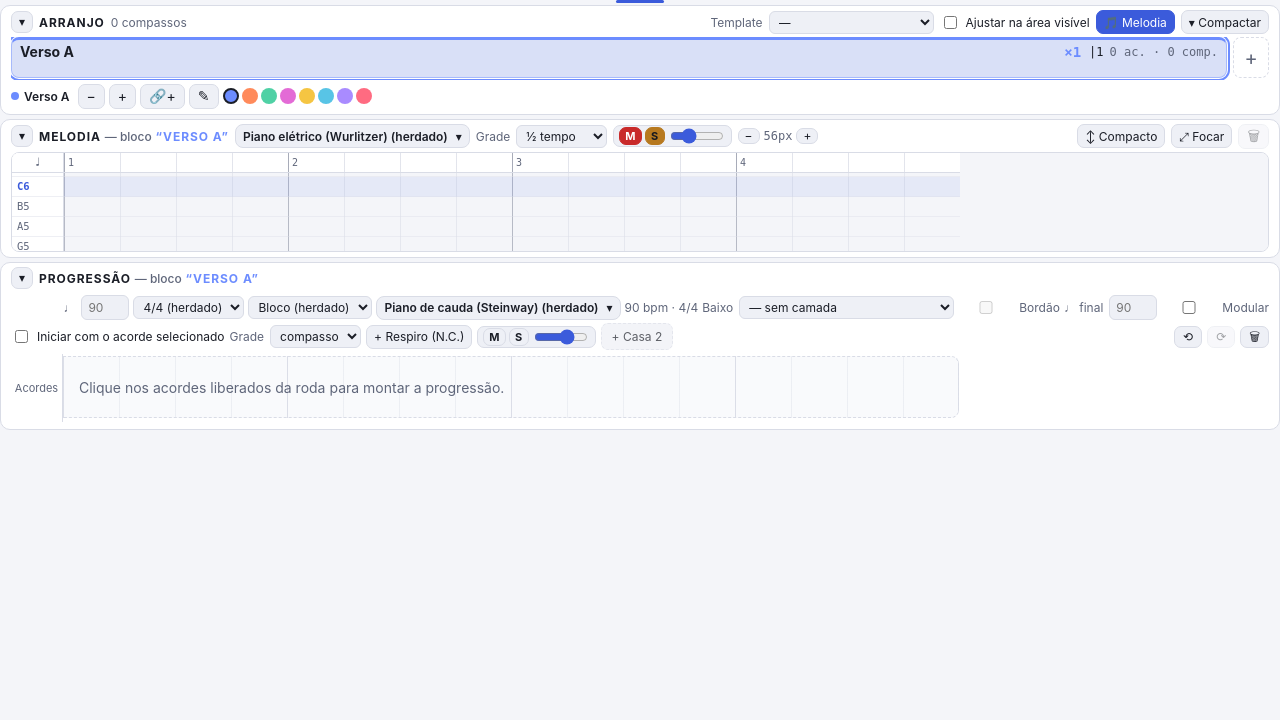
Test: Painéis recolhíveis, modo compacto da melodia e popover em portal › InstrumentPicker de Melodia e Progressão abre via portal em document.body com prioridade máxima e fecha com Esc
(page scrolled)
Note: Seletor da Melodia
Click the button "Piano elétrico (Wurlitzer) (herdado) ▾" at (352, 136), box [235,124,470,148]
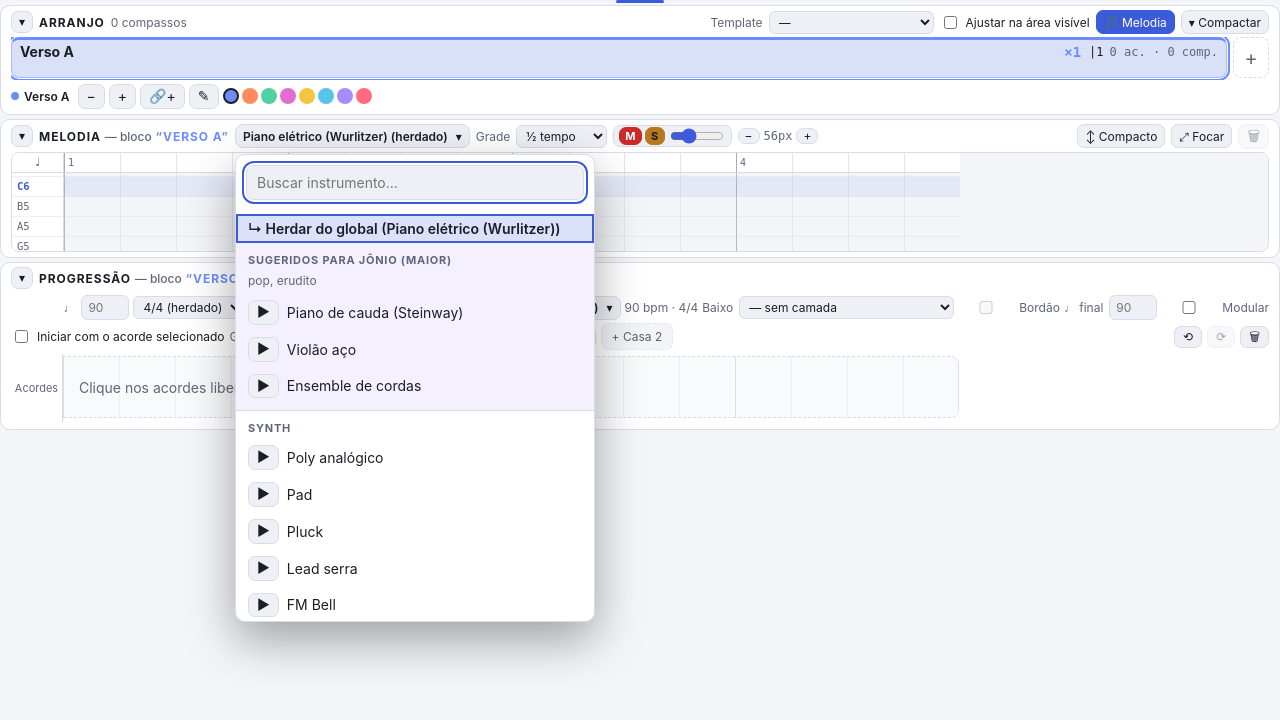
Result: the element with class "inst-popover-portal" is shown at [235,154,595,622]
Press Escape in the dropdown with placeholder "Buscar instrumento…", box [246,165,584,200]
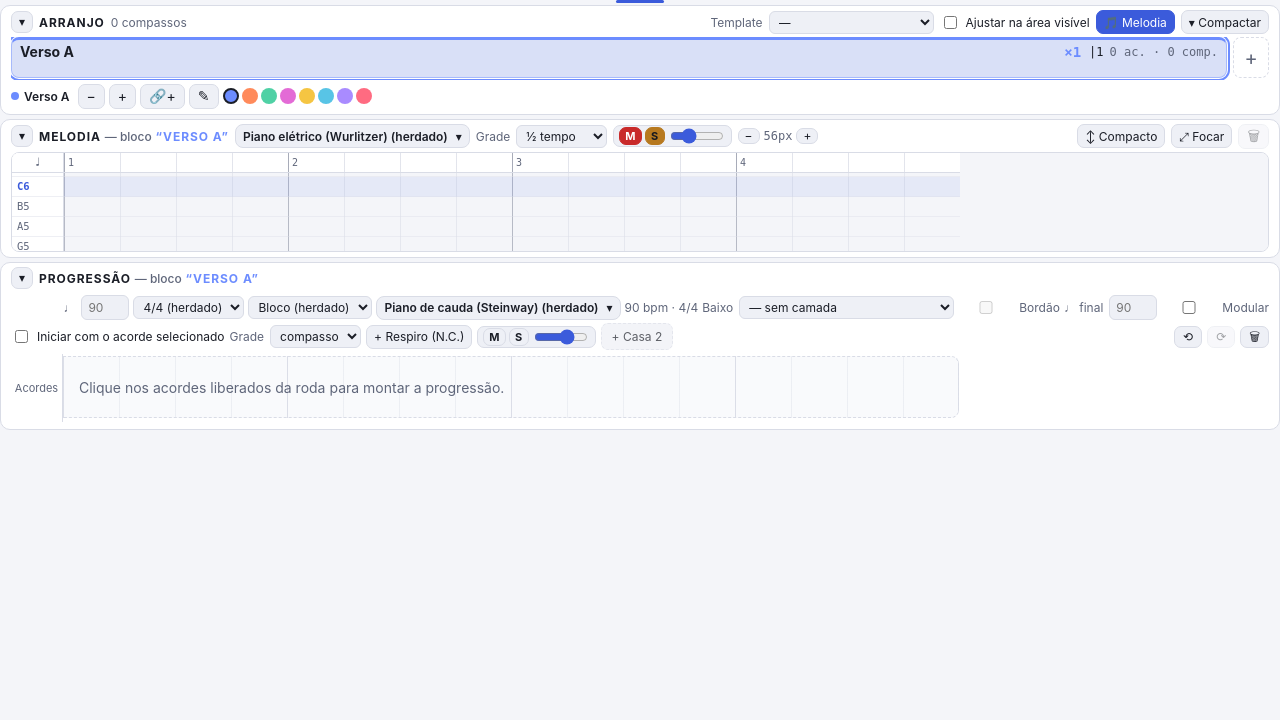
Result: the element with class "inst-popover-portal" is gone
Note: Seletor da Progressão
Click the button "Piano de cauda (Steinway) (herdado) ▾" at (498, 308), box [376,296,621,320]
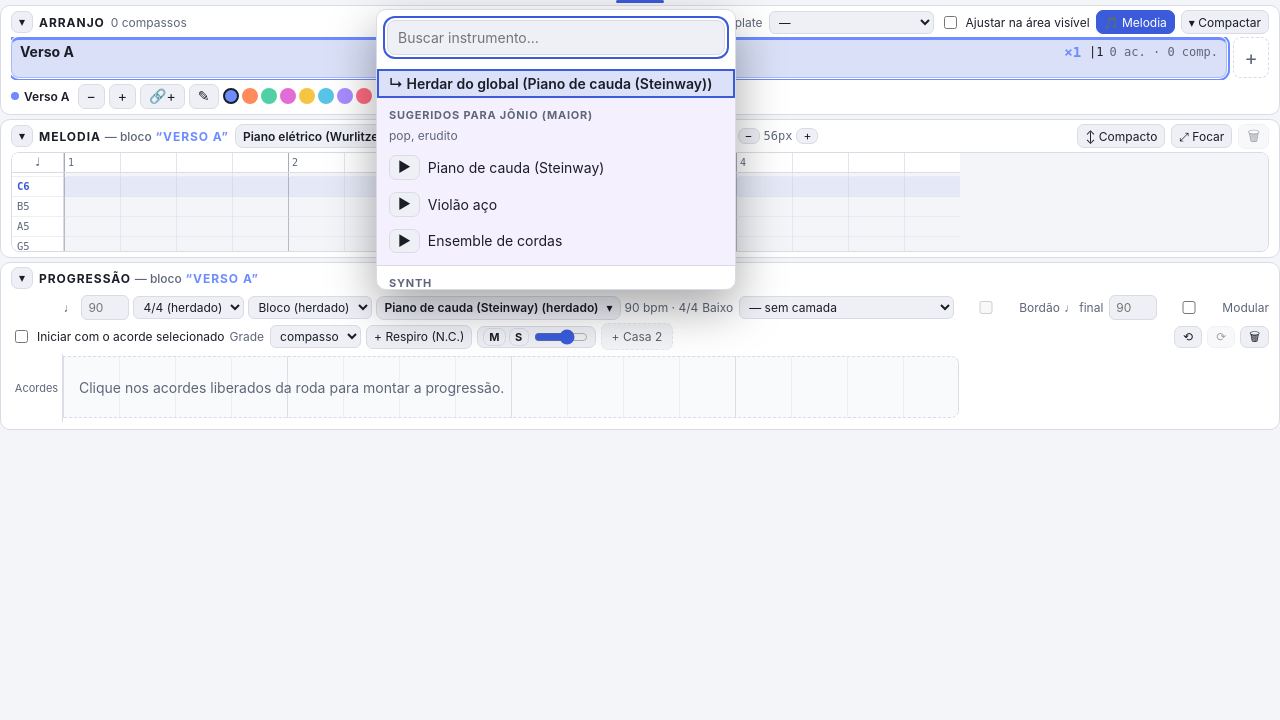
Result: the element with class "inst-popover-portal" is shown at [376,9,736,290]
Note: Fechar ao clicar fora
Press the mouse on the element that starts with "Arranjo" at (640, 360), box [0,0,1279,719]
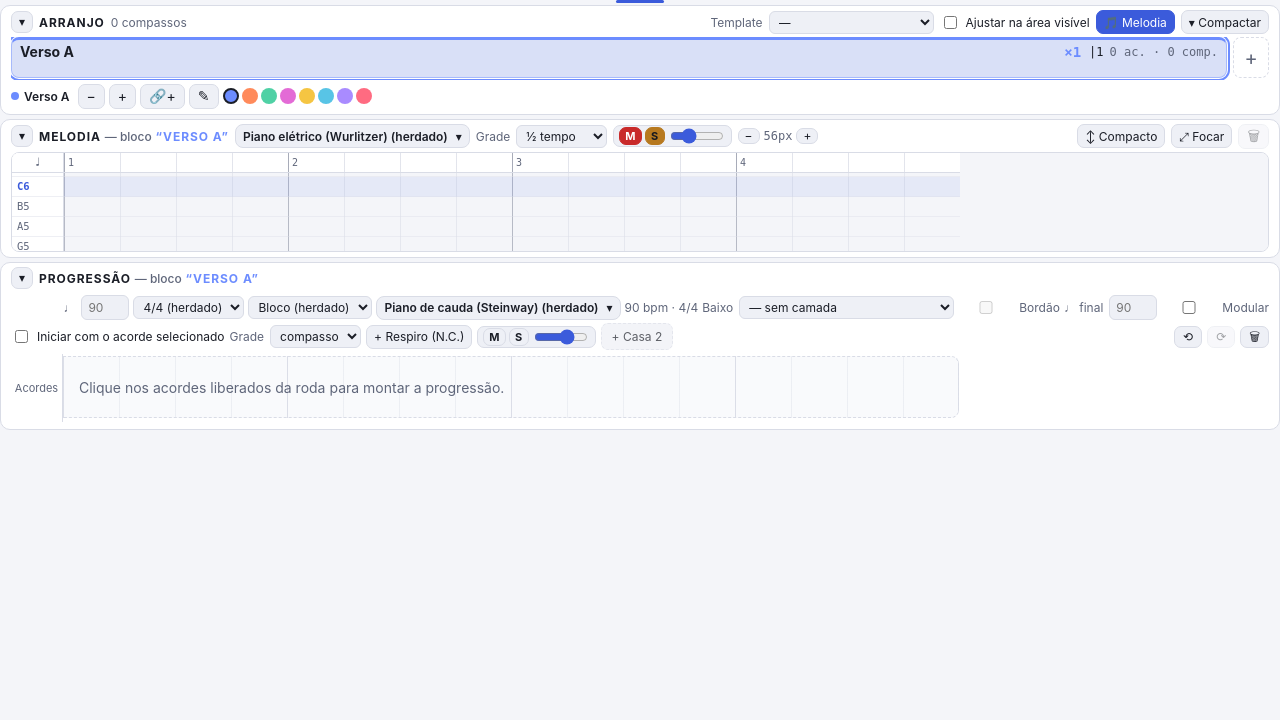
Result: the element with class "inst-popover-portal" is gone
